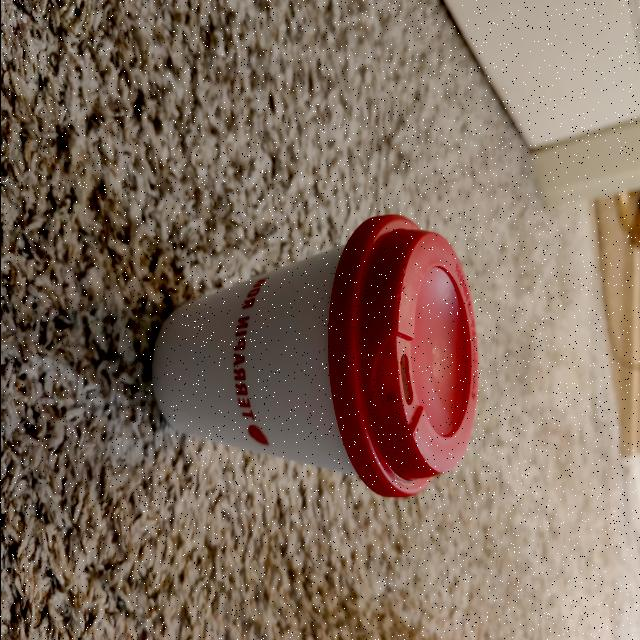mug: (150, 203, 476, 498)
